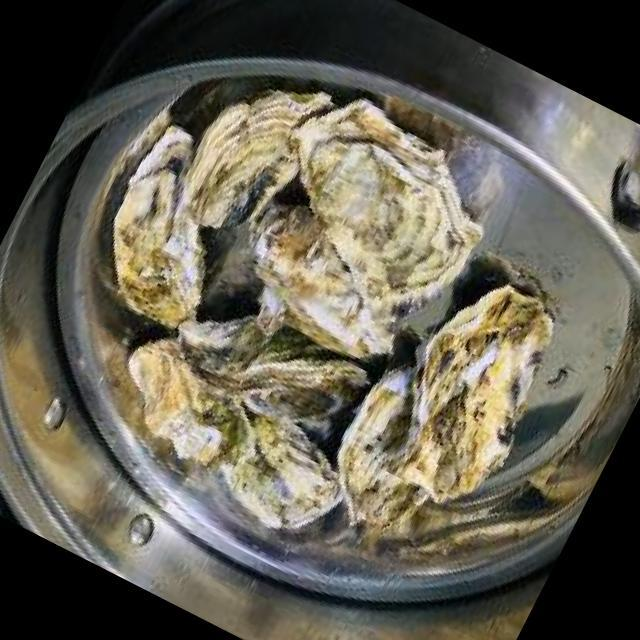Oyster- Indeterminate: (236, 76, 512, 334), (352, 248, 588, 534), (72, 106, 272, 340), (214, 189, 432, 380), (302, 351, 482, 564), (167, 46, 339, 255), (97, 322, 285, 492), (197, 394, 360, 548)
Oyster-Closed: (156, 276, 384, 455)
